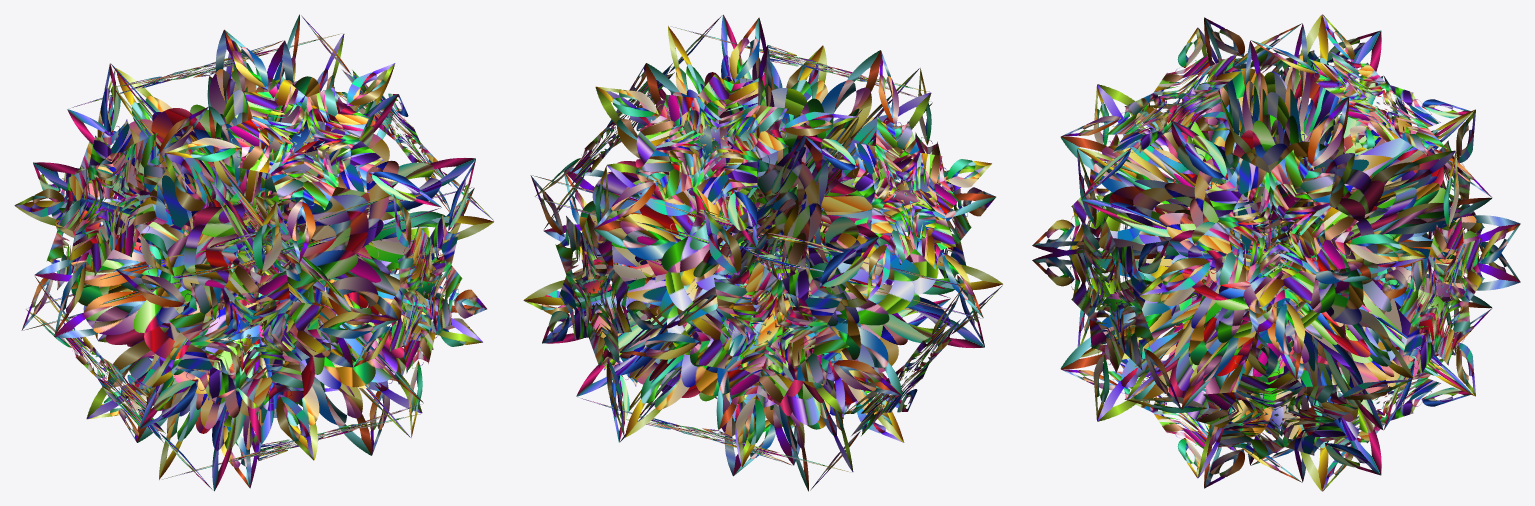
The model's file is 8InvertedSnubDodecadodecahedron.gltf.
3 renders of one model, left to right at view 1: azimuth 30°, elevation 25°; view 2: azimuth 150°, elevation 25°; view 3: azimuth 270°, elevation 25°, orthographic.
Parts seen in each view (by area): view 1: 7InvertedSnubDodecadodecahedron; view 2: 7InvertedSnubDodecadodecahedron; view 3: 7InvertedSnubDodecadodecahedron.
Boxes of the visible parts, box(x1,y1,x2,y2) form: 7InvertedSnubDodecadodecahedron: box(14, 14, 493, 491); 7InvertedSnubDodecadodecahedron: box(523, 14, 1002, 491); 7InvertedSnubDodecadodecahedron: box(1032, 14, 1520, 491).
Size of the model in its own units: 1.69 by 1.69 by 1.69.
1 material, 1 textured.
